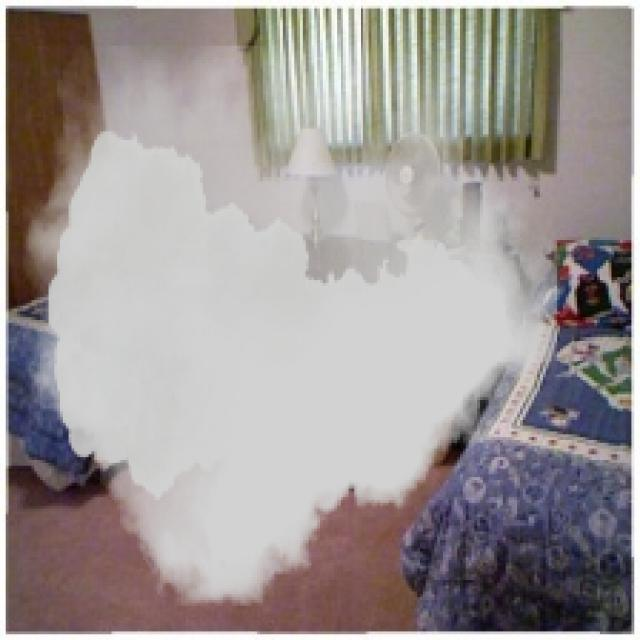smoke: (23, 45, 557, 606)
